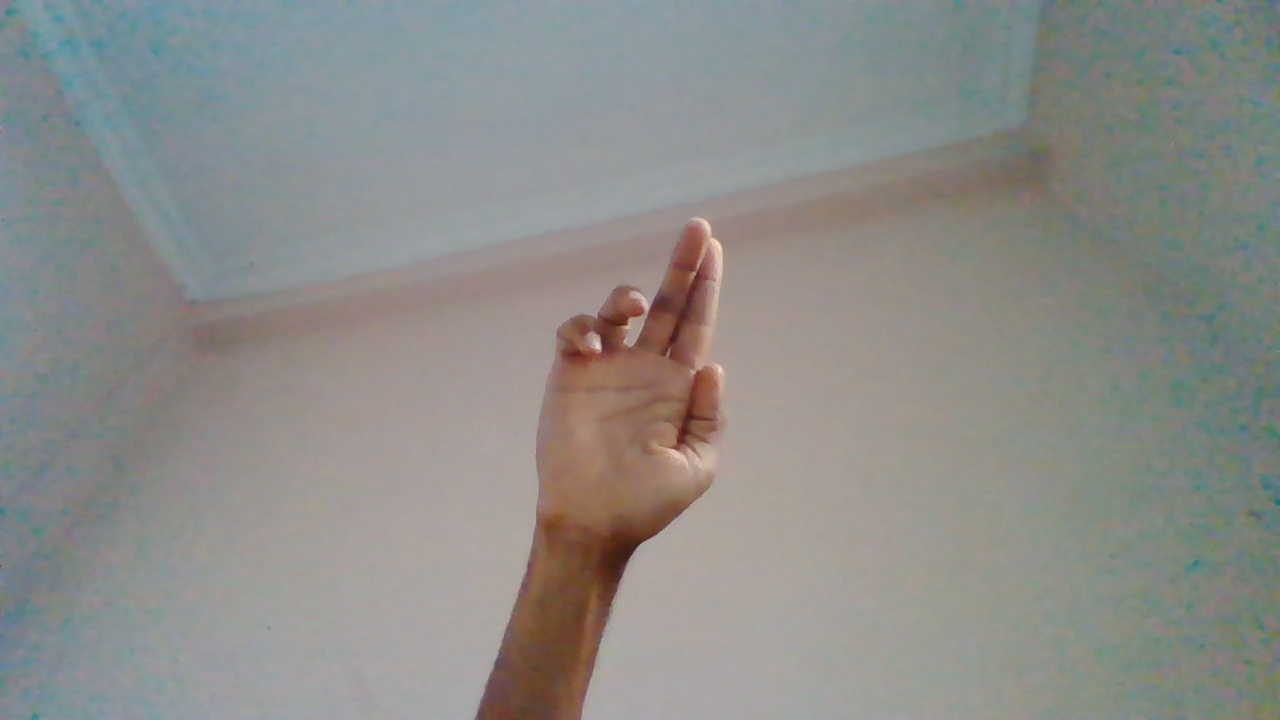gne: (540, 217, 728, 611)
